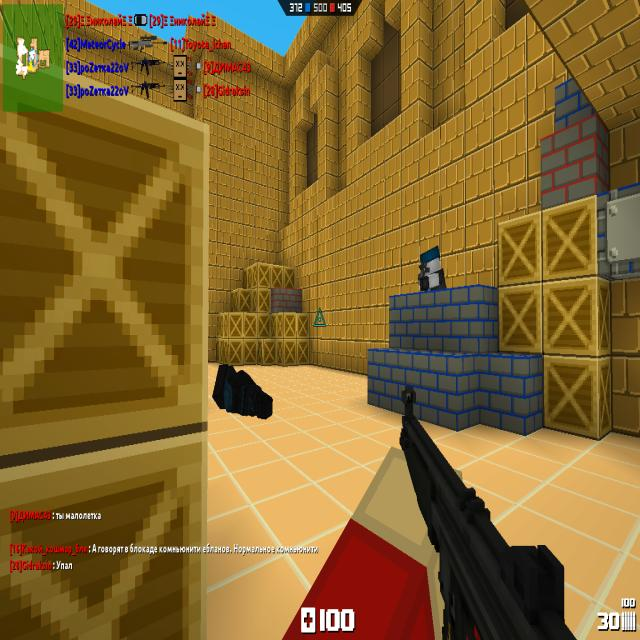enemy: (418, 245, 447, 291)
